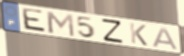5: (77, 16, 98, 39)
A: (151, 26, 180, 51)
E: (22, 7, 48, 34)
K: (128, 22, 149, 47)
M: (44, 10, 77, 38)
Z: (100, 18, 125, 44)
